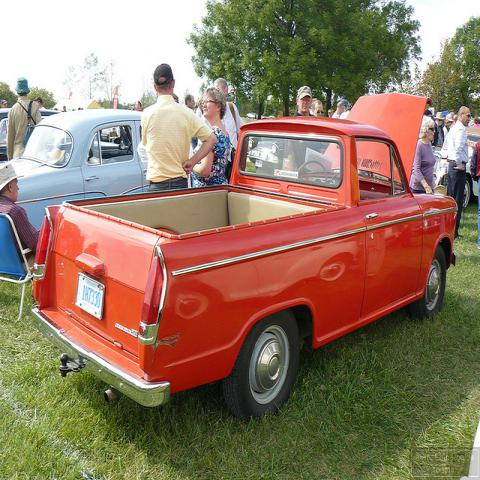car: (1, 107, 147, 227), (433, 125, 479, 204), (0, 109, 12, 161)
truck: (27, 89, 458, 412)
